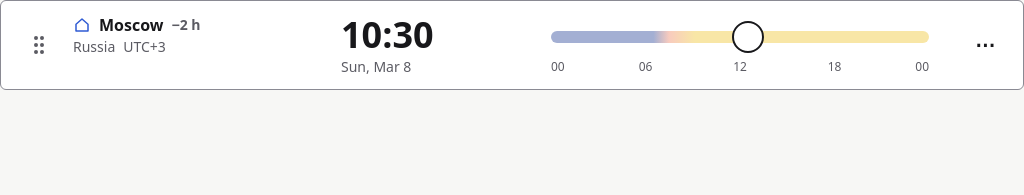
LocationRow location menu › should offer Clear home and Remove in the menu of the home row
This screenshot has width=1024, height=195.
Click the button named "Actions for Moscow": (985, 45) 963,23 -> 1007,67
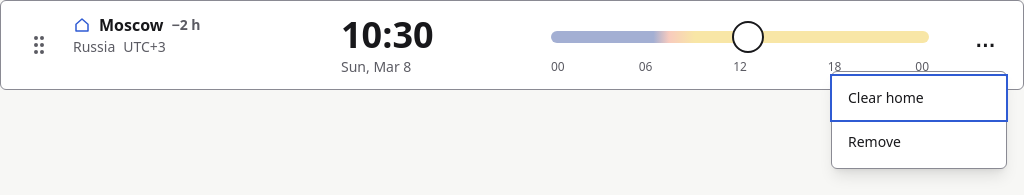
Check: the menu items read "Clear home", "Remove", in this order, box 832,76 -> 1006,120; 832,120 -> 1006,164
